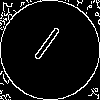I: (25, 25, 64, 70)
